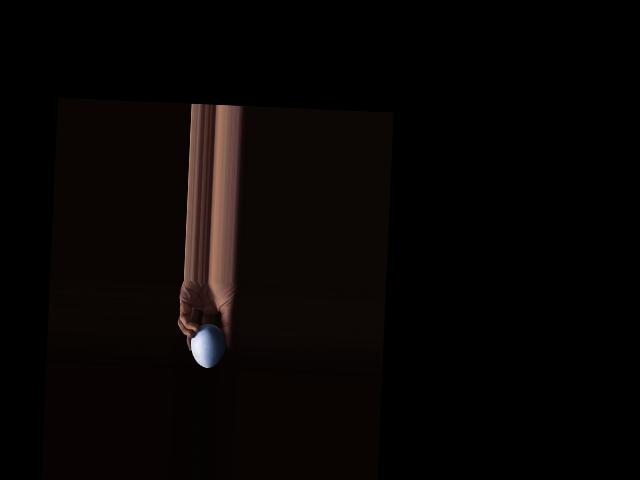egg: (188, 323, 225, 369)
